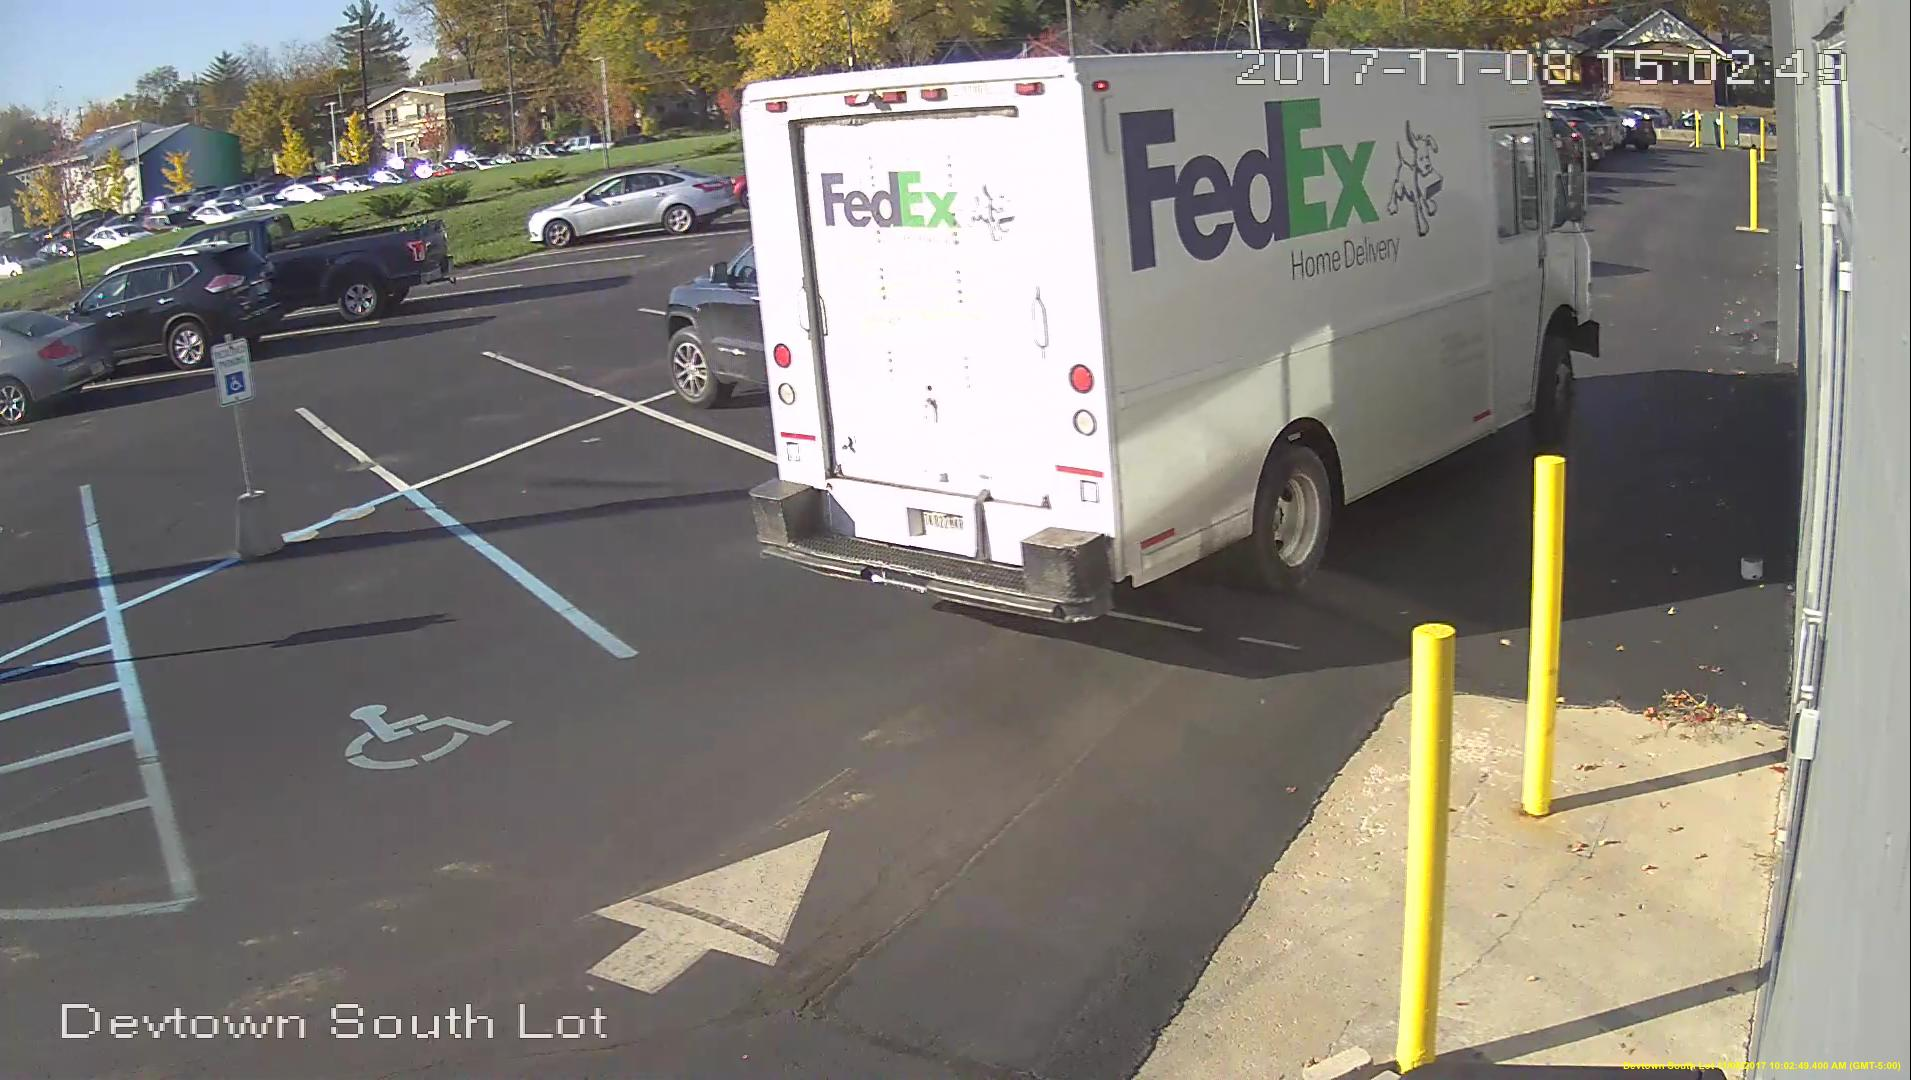fedex_truck: (739, 46, 1610, 629)
